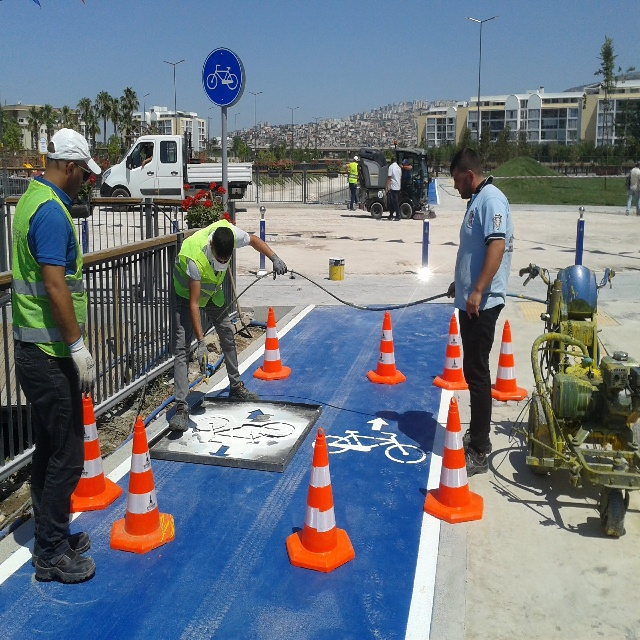Gafas: (73, 162, 90, 180)
Guantes: (68, 335, 98, 395), (269, 251, 287, 280), (197, 338, 208, 369)
Mascara: (209, 244, 234, 272)
Sin_guantes: (466, 289, 482, 319), (446, 279, 456, 299), (141, 160, 145, 166)
